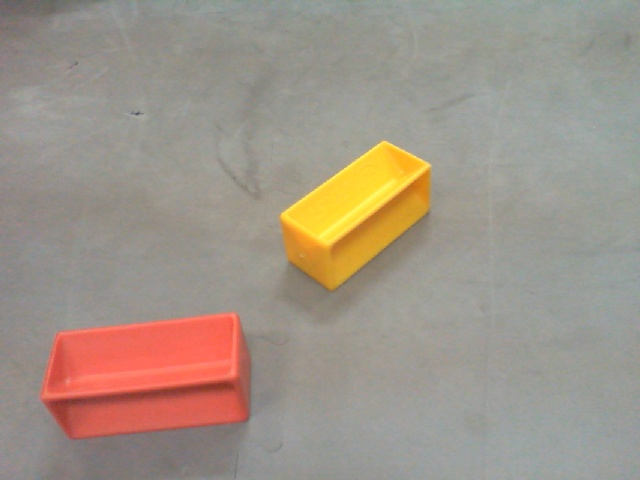RedSample: (41, 312, 254, 442)
YellowSample: (285, 141, 433, 283)
